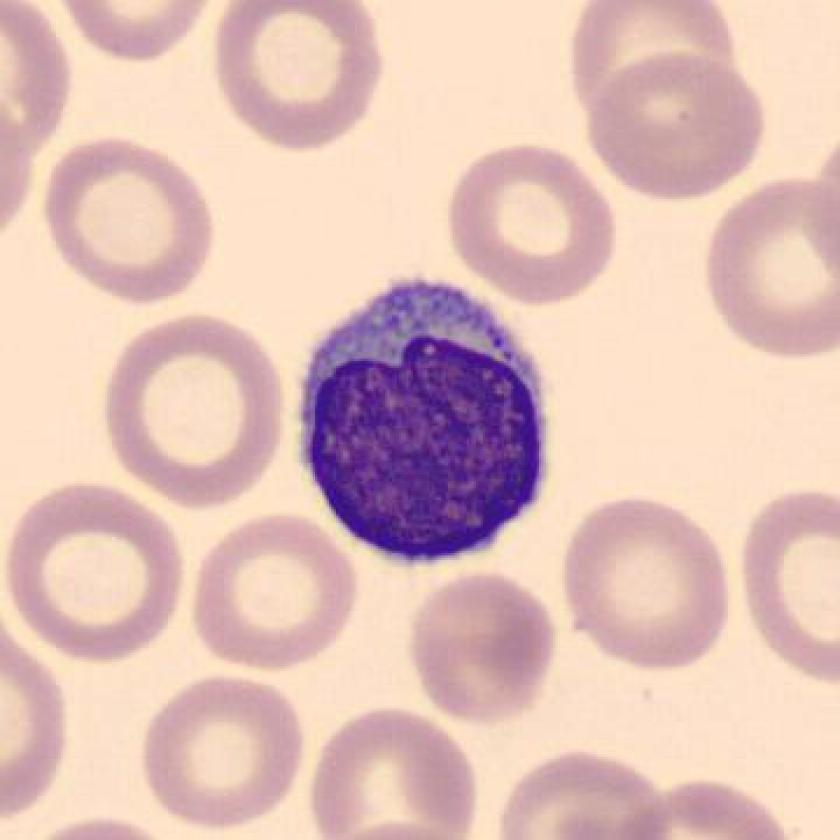lymphocyte: (276, 272, 568, 575)
